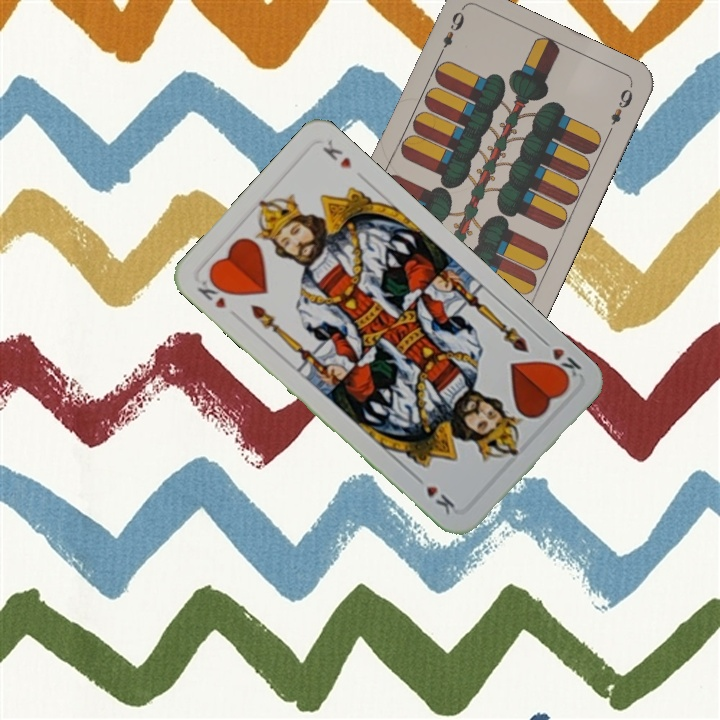E9: (434, 7, 467, 61)
HK: (536, 333, 584, 384), (193, 272, 232, 312)
